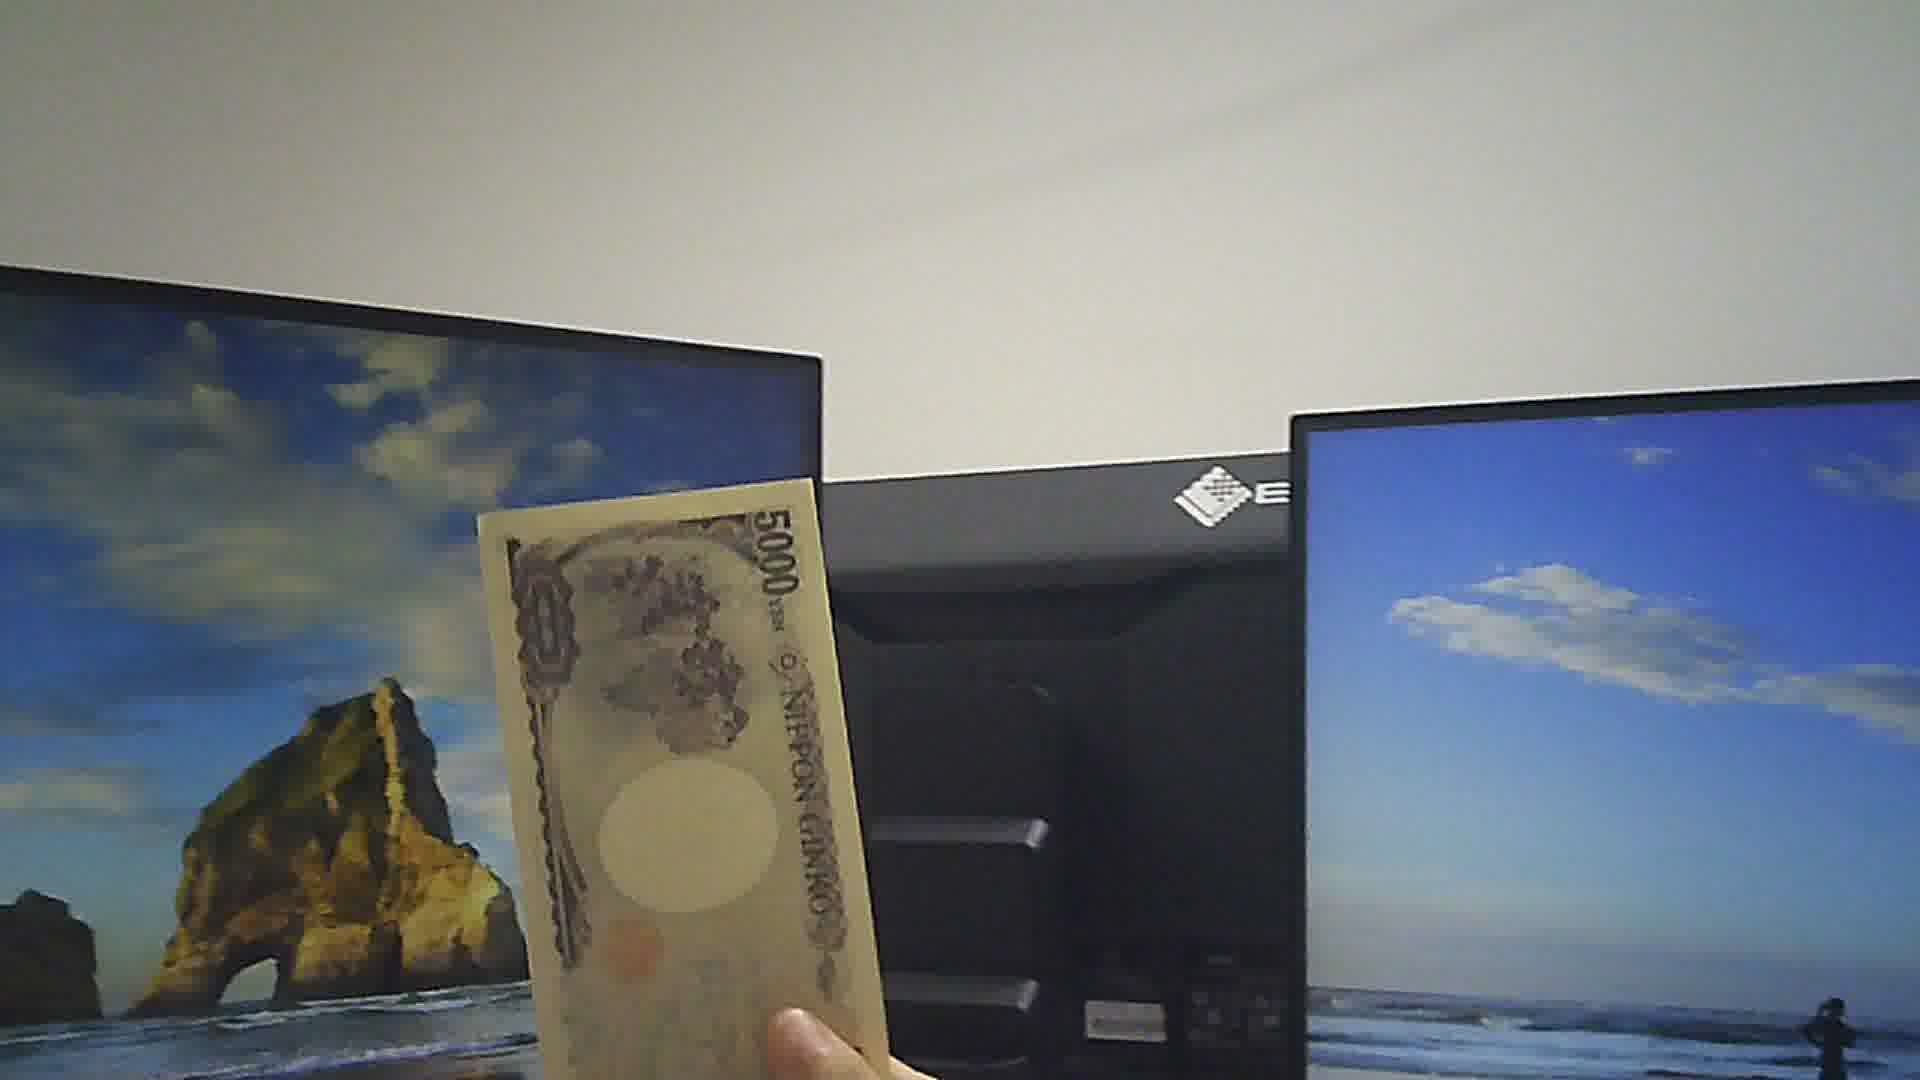5,000 Yen: (467, 464, 895, 1079)
